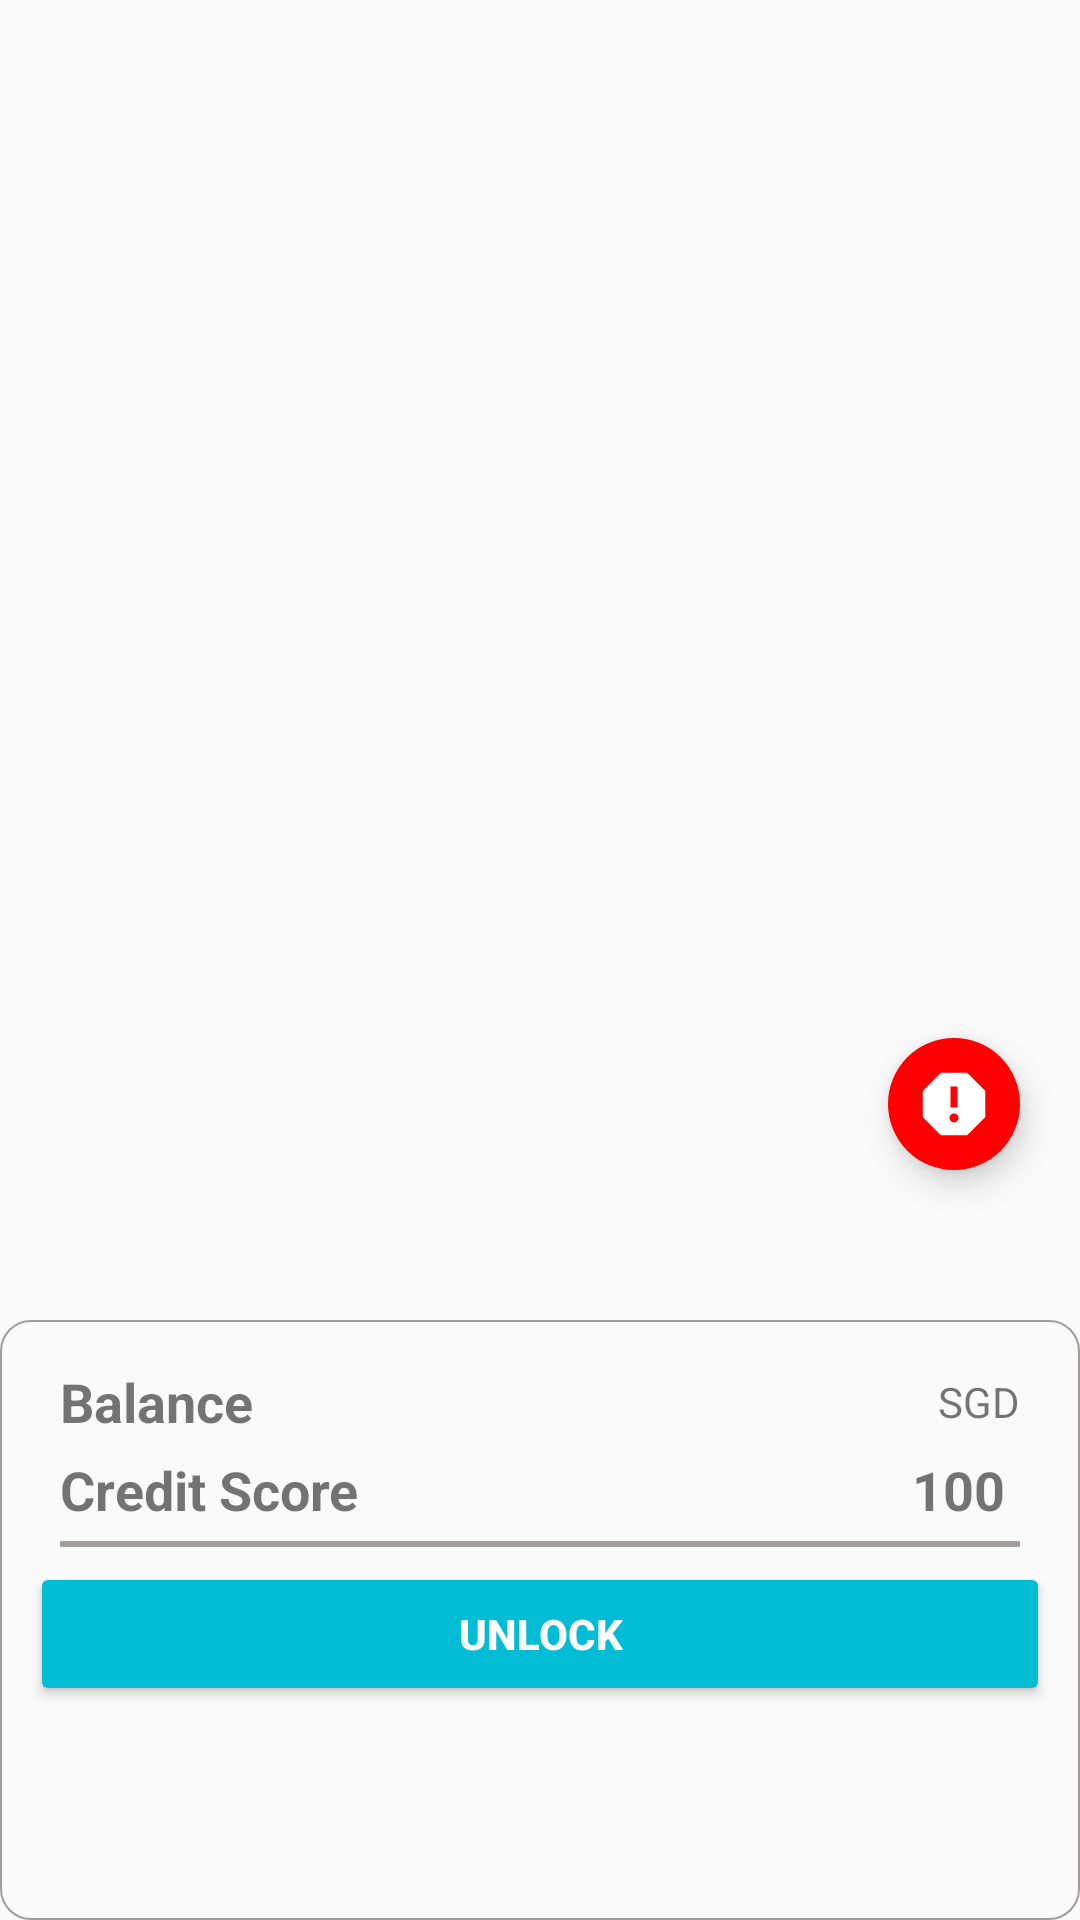

Icons on this 1080×1920 Android screen, each with its box as (x1, y1, x2, y2):
report: (888, 1038, 1020, 1170)
